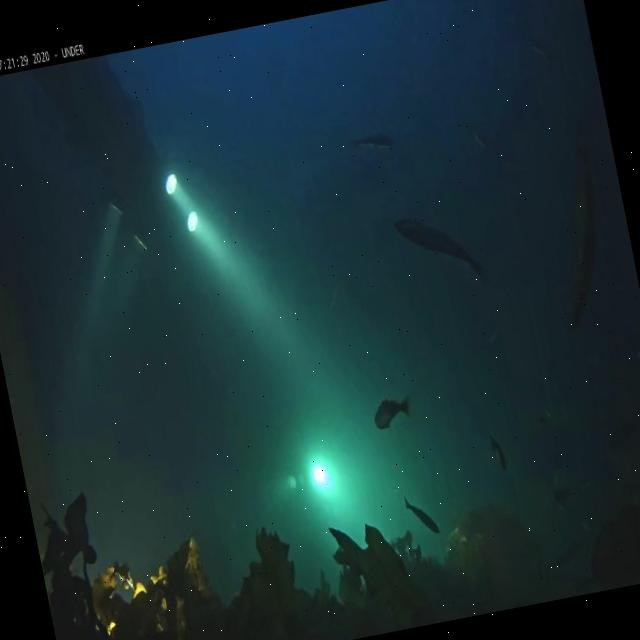fish: (538, 161, 622, 337), (394, 201, 484, 291), (370, 389, 416, 432), (403, 490, 441, 540), (346, 130, 394, 152), (487, 433, 510, 473), (552, 485, 574, 516), (474, 128, 490, 153)
